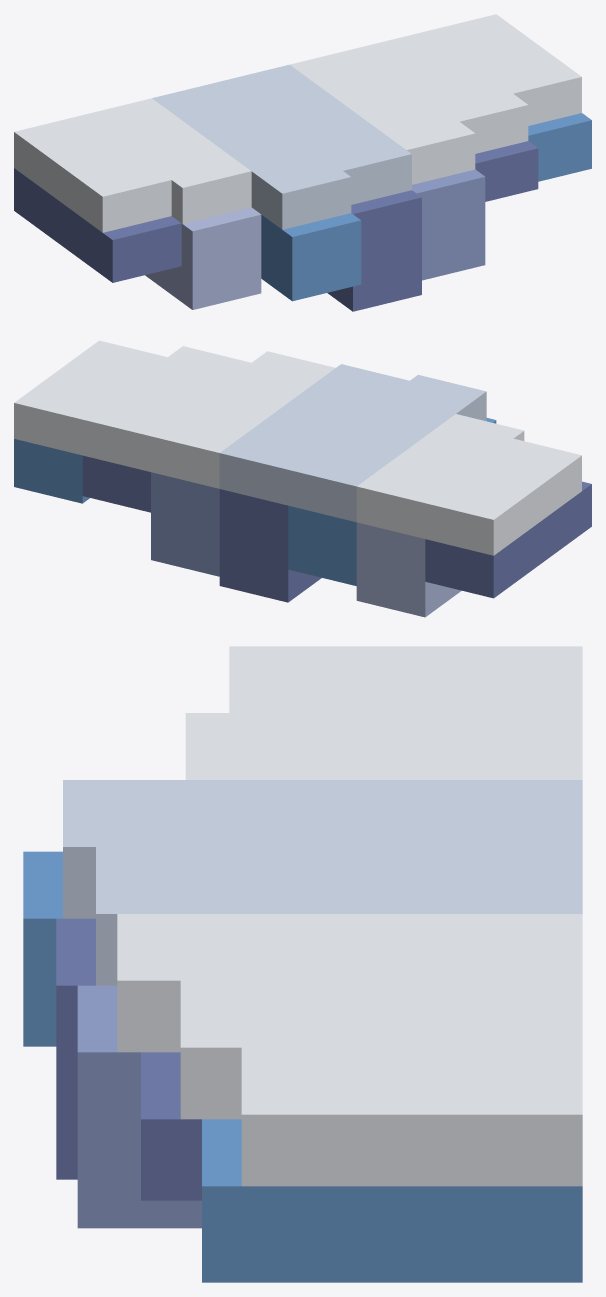
File: IceOverhang.glb
3 renders of one model, top to bottom at view 1: azimuth 30°, elevation 25°; view 2: azimuth 150°, elevation 25°; view 3: azimuth 270°, elevation 25°, orthographic. The views are drawn at different scales.
Parts seen in each view (by area): view 1: IceOverhang; view 2: IceOverhang; view 3: IceOverhang.
Part boxes in pixels (<box>): IceOverhang: <box>14,14,591,311</box>; IceOverhang: <box>14,340,591,617</box>; IceOverhang: <box>23,646,582,1282</box>.
Size of the model in its own units: 14 by 3.71 by 7.06.
1 material, 1 textured.
